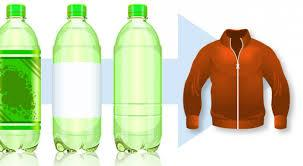Plastic: (112, 5, 165, 155)
